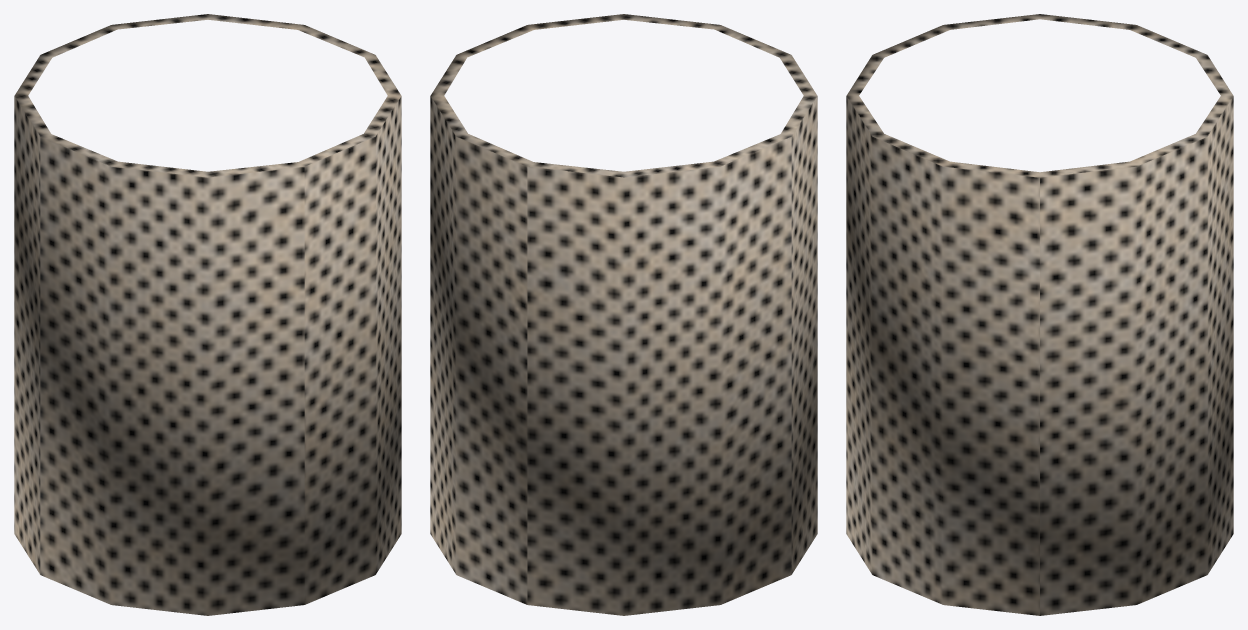
The model's file is TrashCan.glb.
3 renders of one model, left to right at view 1: azimuth 30°, elevation 25°; view 2: azimuth 150°, elevation 25°; view 3: azimuth 270°, elevation 25°, orthographic.
Visible parts, largest first — view 1: Plane; view 2: Plane; view 3: Plane.
Boxes of the visible parts, x1,y1,x2,y2 form: Plane: (14, 14, 401, 615); Plane: (430, 14, 817, 615); Plane: (846, 14, 1233, 615).
Bounding box in the file's own units: 0.4 × 0.5 × 0.4.
1 material, 1 textured.
